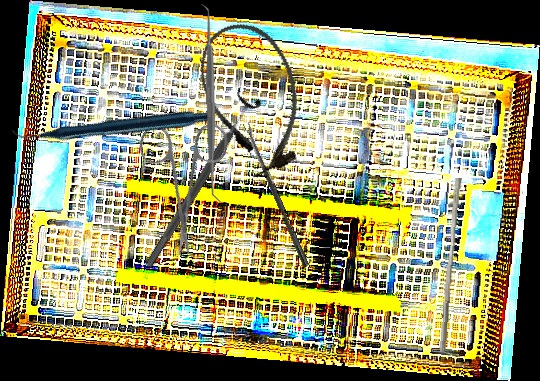Cannula: (186, 10, 320, 186)
Fixation Ring: (134, 86, 265, 274)
Handpiece: (10, 32, 212, 215)
Iris Scissors: (99, 91, 269, 260)
Pusher: (438, 177, 463, 353)
Spatula Surgical: (198, 3, 224, 204)
Surgical Spoon: (242, 121, 311, 268)
